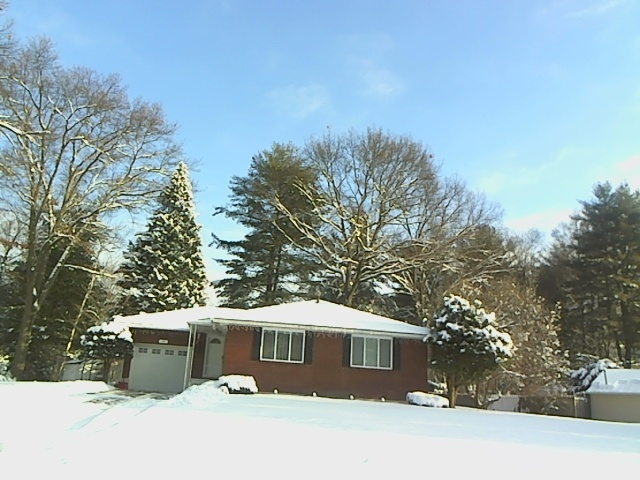Unploughed: (31, 387, 182, 430)
